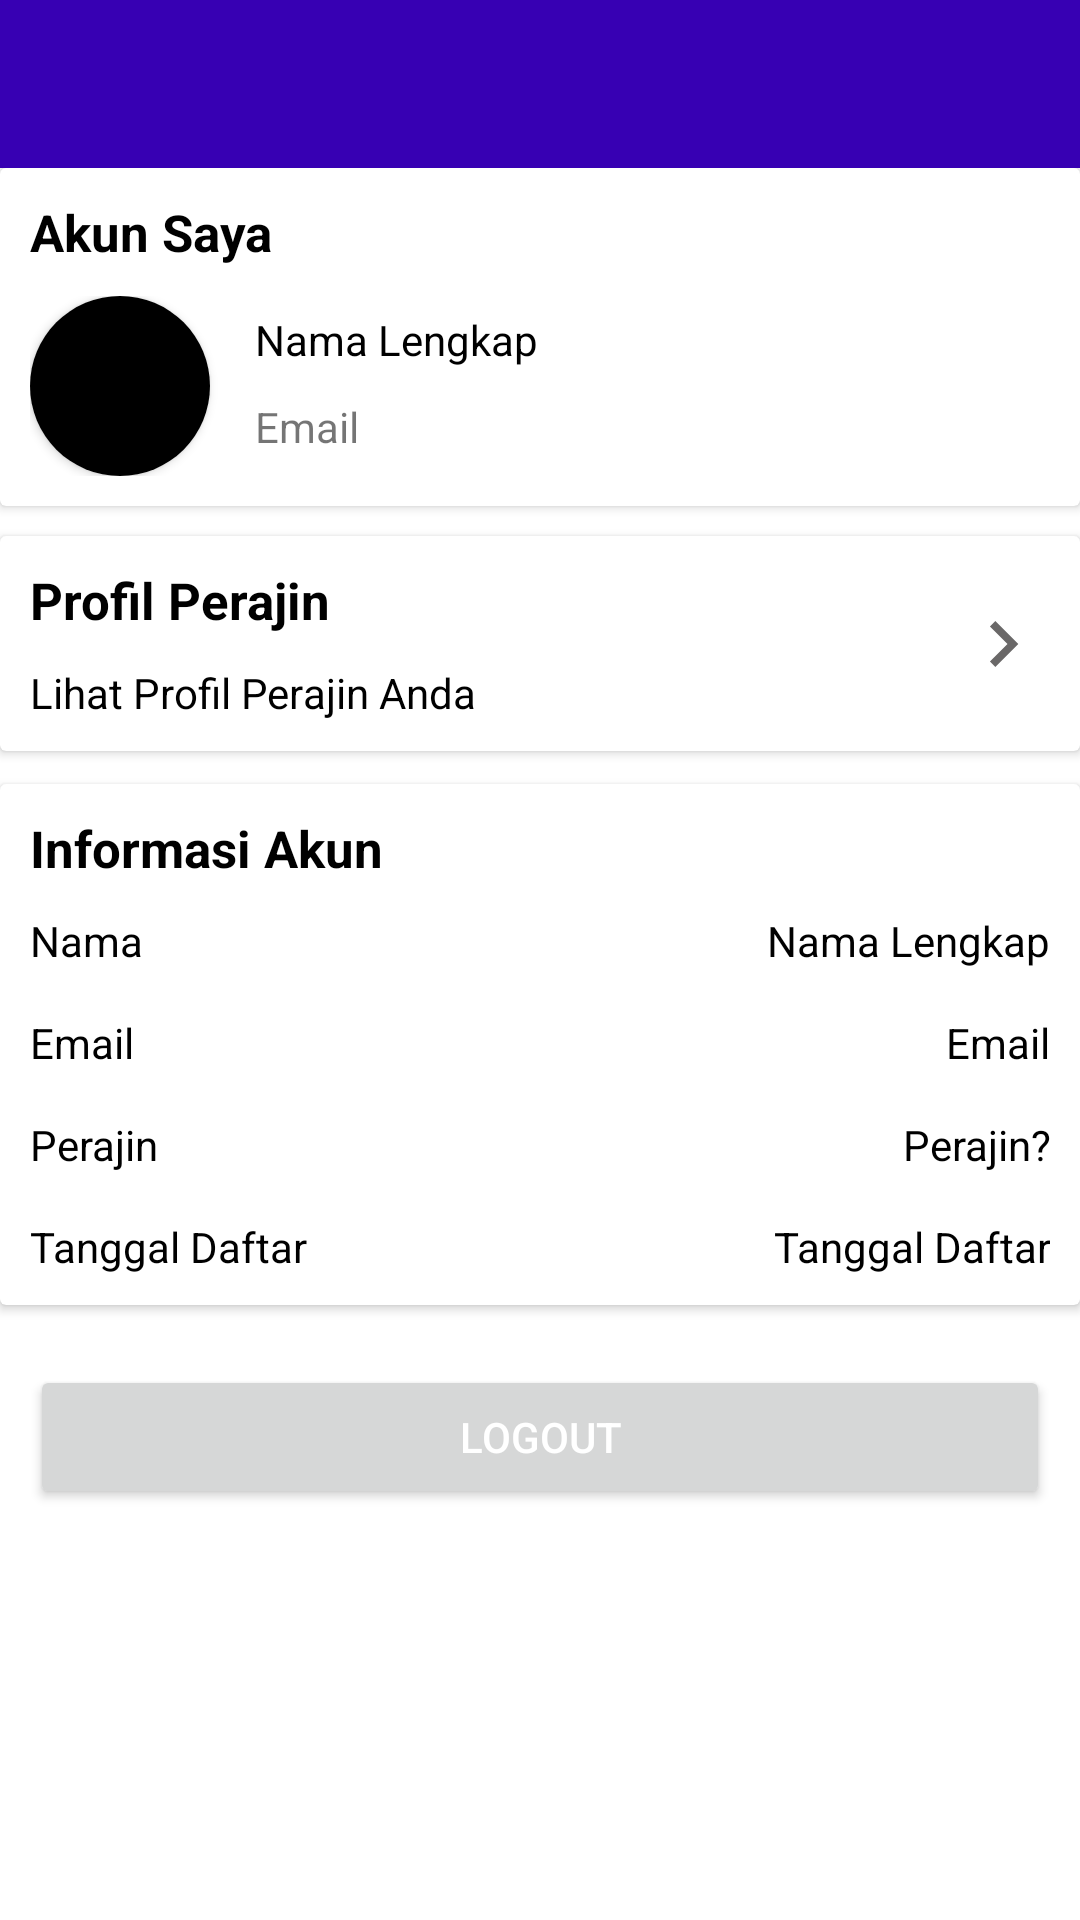

Where icons sit on this 1080*1920 app screen, as [x1,y1,x2,y2]:
arrow right: [990,621,1018,667]
